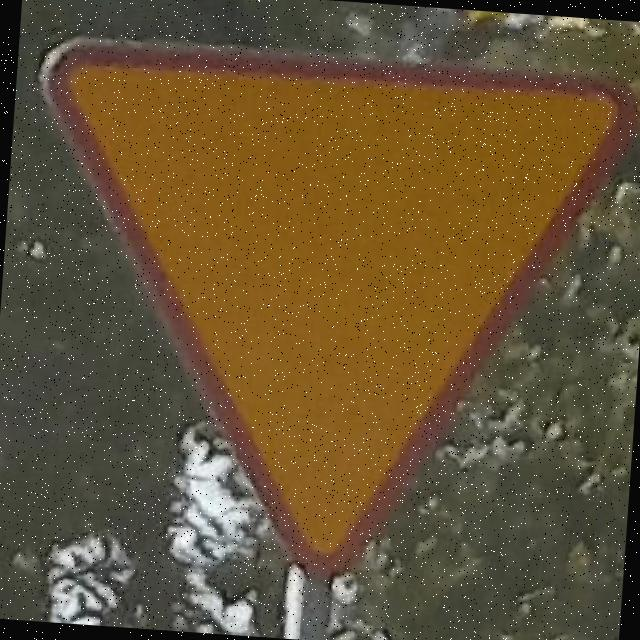Ustap pierwszenstwa: (0, 31, 640, 604)
